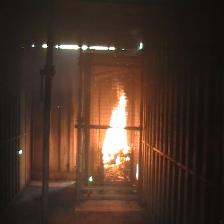fire: (103, 89, 131, 169)
